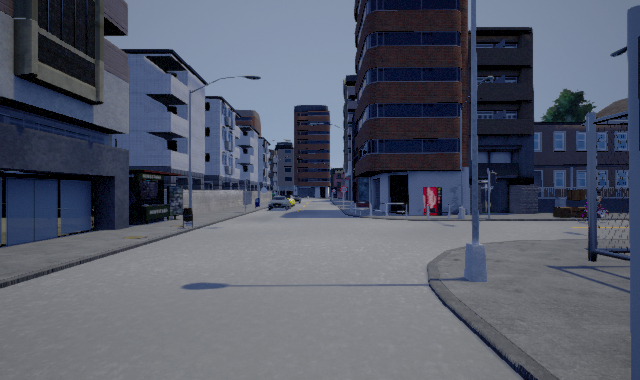traffic_light: (638, 36, 640, 151)
traffic_sign: (340, 185, 347, 194)
vehicle: (268, 194, 290, 211)
